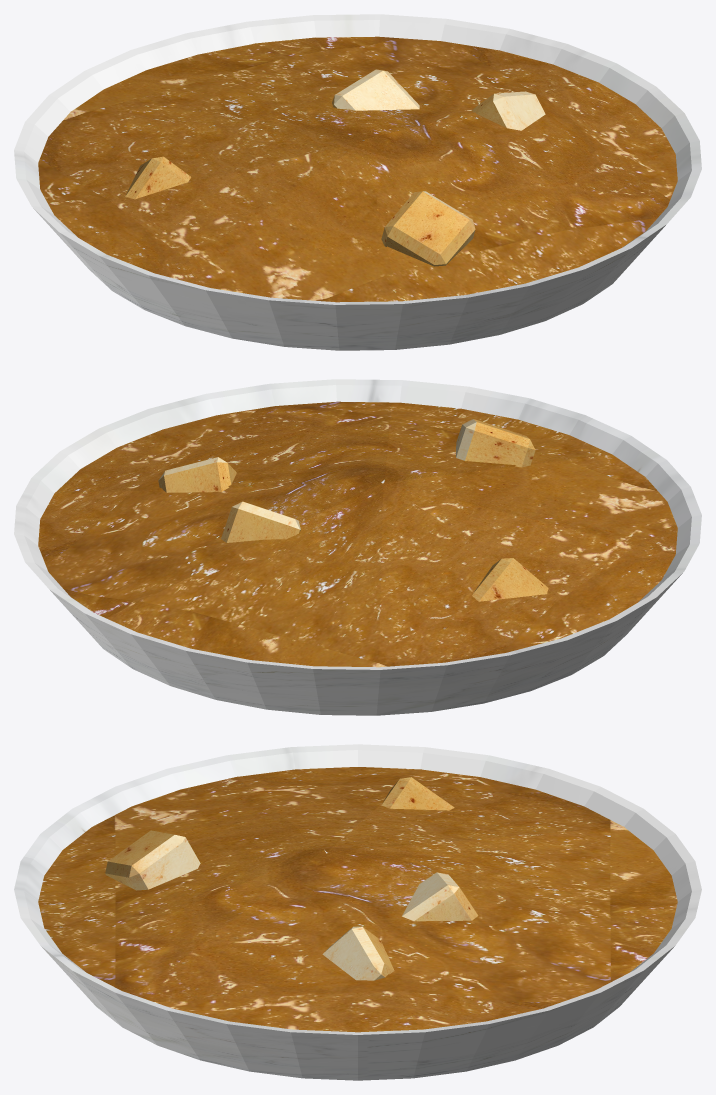
Rendered from comidaasquerosa.fbx.
3 renders of one model, top to bottom at view 1: azimuth 30°, elevation 25°; view 2: azimuth 150°, elevation 25°; view 3: azimuth 270°, elevation 25°, orthographic.
Visible parts, largest first — view 1: Cylinder.001, Cylinder, Cylinder.003, Cylinder.005, Cylinder.004, Cylinder.002; view 2: Cylinder.001, Cylinder, Cylinder.003, Cylinder.005, Cylinder.004, Cylinder.002; view 3: Cylinder.001, Cylinder, Cylinder.003, Cylinder.004, Cylinder.005, Cylinder.002.
Boxes of the visible parts, x1,y1,x2,y2 form: Cylinder.001: (38,36,677,302); Cylinder: (14,14,701,350); Cylinder.003: (381,191,475,266); Cylinder.005: (332,69,419,110); Cylinder.004: (471,91,545,130); Cylinder.002: (125,156,190,199); Cylinder.001: (38,401,677,667); Cylinder: (14,379,701,715); Cylinder.003: (456,419,535,467); Cylinder.005: (221,501,300,542); Cylinder.004: (158,457,236,492); Cylinder.002: (472,558,548,601); Cylinder.001: (38,767,677,1032); Cylinder: (14,744,701,1080); Cylinder.003: (105,830,200,890); Cylinder.004: (322,926,394,980); Cylinder.005: (402,872,478,921); Cylinder.002: (381,777,454,810).
Bounding box in the file's own units: 218 × 39.88 × 218.
Materials: 6 (6 with a texture image).
